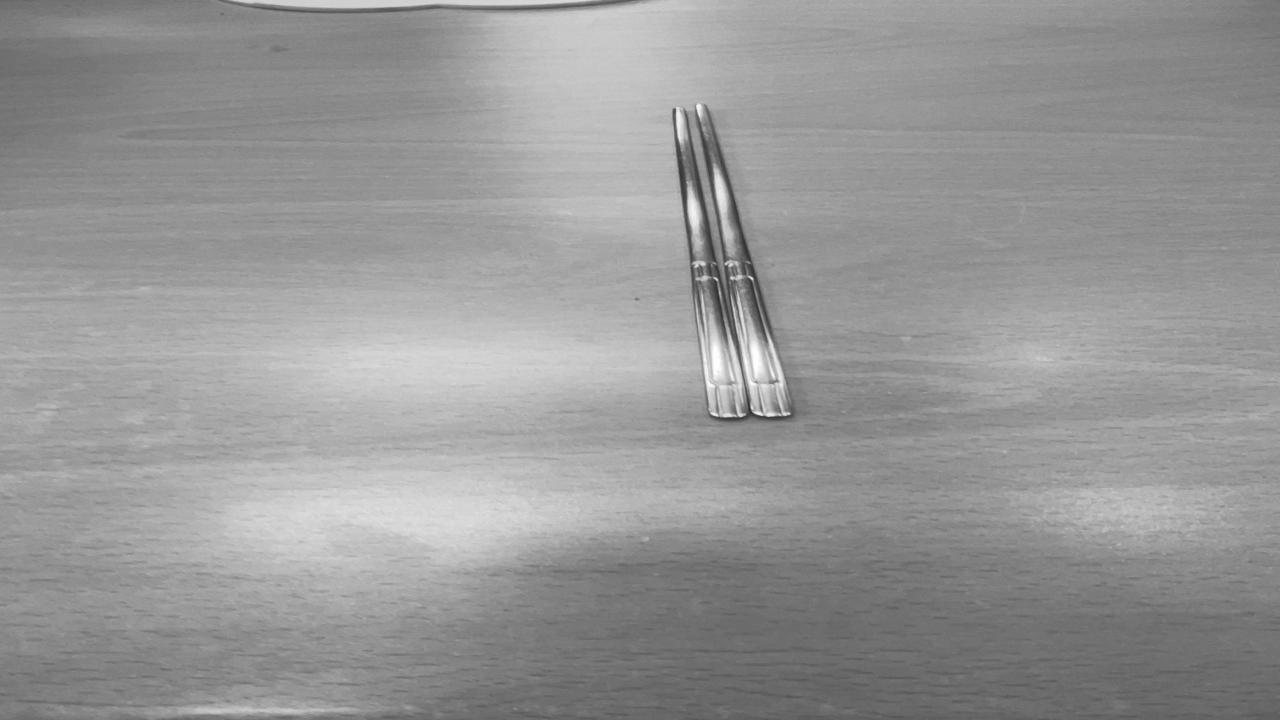chopstick: (663, 102, 802, 422)
